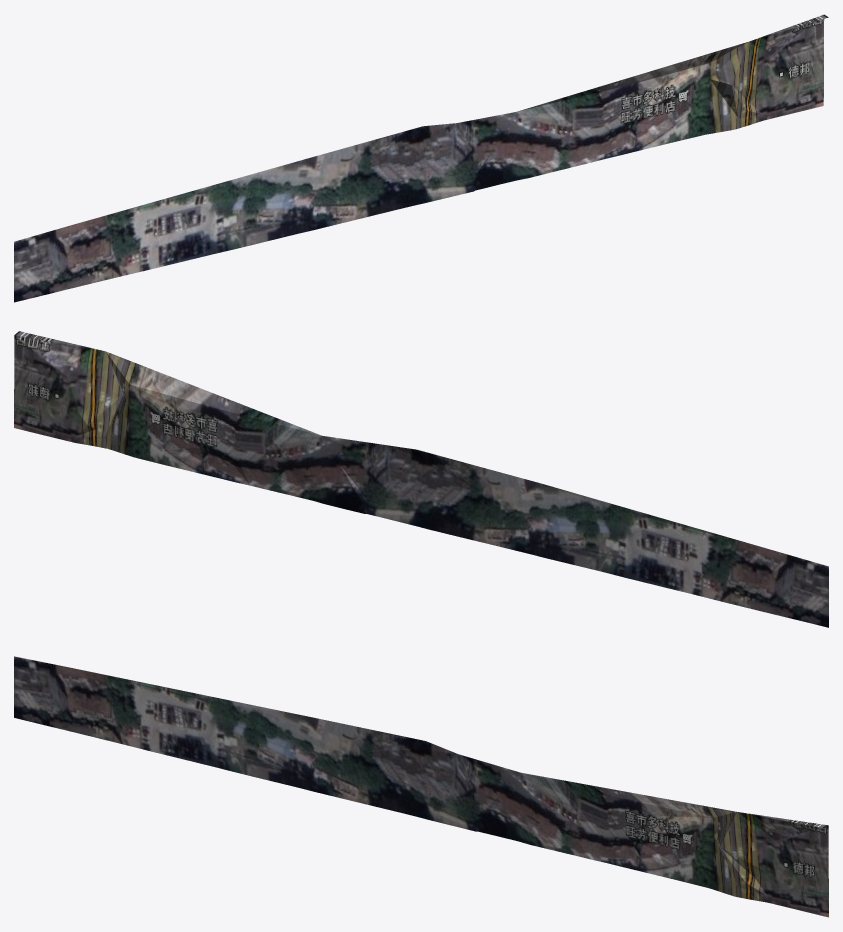
3 views of the same model, one above another, from view 1: azimuth 30°, elevation 25°; view 2: azimuth 150°, elevation 25°; view 3: azimuth 330°, elevation 25° (orthographic).
Parts seen in each view (by area): view 1: 0_1_2_0_1_3; view 2: 0_1_2_0_1_3; view 3: 0_1_2_0_1_3.
Part boxes in pixels (bbox=[...]): 0_1_2_0_1_3: bbox=[14, 14, 828, 302]; 0_1_2_0_1_3: bbox=[14, 331, 828, 627]; 0_1_2_0_1_3: bbox=[14, 656, 828, 917].
Bounding box in the file's own units: 486 × 52.99 × 9.65.
Materials: 1 (1 with a texture image).
